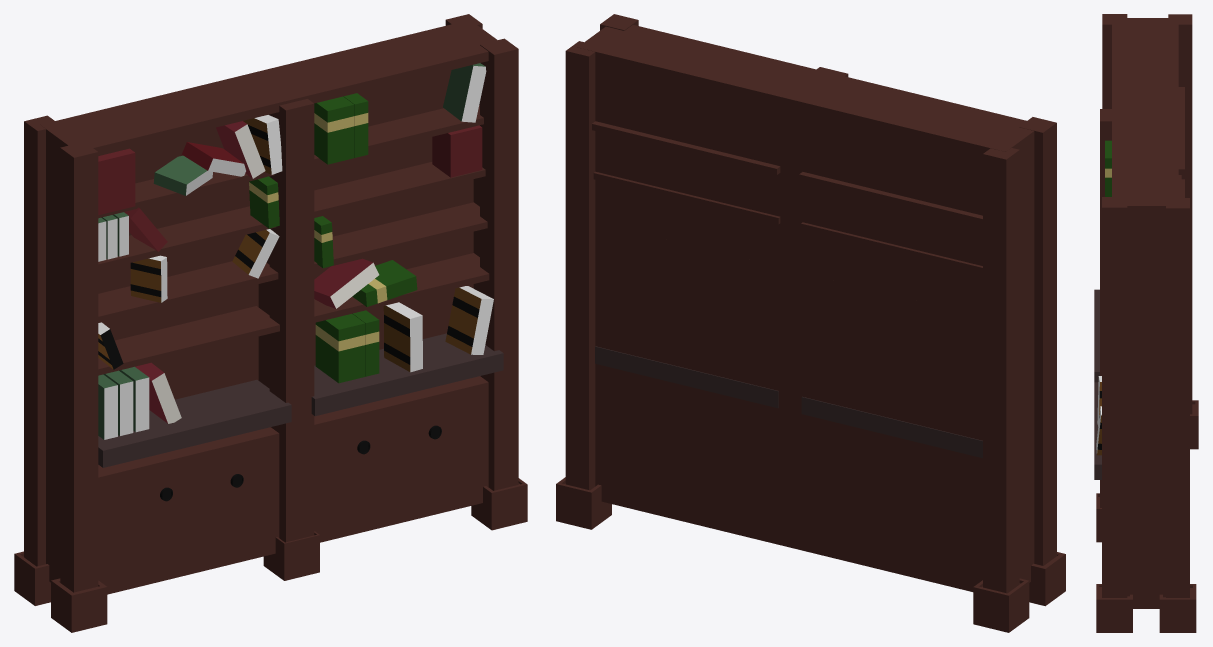
Rendered from bookshelf.fbx.
The picture shows the model from 3 angles, left to right: view 1: azimuth 30°, elevation 25°; view 2: azimuth 150°, elevation 25°; view 3: azimuth 270°, elevation 25°; orthographic projection. The views are drawn at different scales.
Visible parts, largest first — view 1: Cube, Cube.001, Cube.003, Cube.006, Cube.002, Cube.007, Cube.005, Cube.021, Cube.020, Cube.012, Cube.037, Cube.019 (+23 smaller); view 2: Cube, Cube.005, Cube.004, Cube.003, Cube.001, Cube.007; view 3: Cube, Cube.002, Cube.004, Cube.005, Cube.006, Cube.003, Cube.007, Cube.001, Cube.023, Cube.021, Cube.020.
Part boxes in pixels (<box>): Cube: <box>40,20,497,594</box>; Cube.001: <box>98,105,489,375</box>; Cube.003: <box>51,142,107,632</box>; Cube.006: <box>263,99,319,580</box>; Cube.002: <box>471,38,527,530</box>; Cube.007: <box>98,333,503,467</box>; Cube.005: <box>14,115,54,605</box>; Cube.021: <box>445,286,493,354</box>; Cube.020: <box>383,302,422,372</box>; Cube.012: <box>315,317,352,383</box>; Cube.037: <box>314,258,379,308</box>; Cube.019: <box>443,63,486,122</box>; Cube: <box>577,25,1034,591</box>; Cube.005: <box>973,148,1029,632</box>; Cube.004: <box>556,41,611,529</box>; Cube.003: <box>1019,117,1065,606</box>; Cube.001: <box>592,121,982,322</box>; Cube.007: <box>595,346,982,458</box>; Cube: <box>1112,18,1178,608</box>; Cube.002: <box>1096,197,1132,632</box>; Cube.004: <box>1159,198,1196,632</box>; Cube.005: <box>1168,14,1198,449</box>; Cube.006: <box>1096,109,1111,542</box>; Cube.003: <box>1102,14,1127,108</box>; Cube.007: <box>1094,289,1101,479</box>; Cube.001: <box>1178,87,1184,197</box>; Cube.023: <box>1105,152,1111,196</box>; Cube.021: <box>1096,406,1101,455</box>; Cube.020: <box>1097,376,1101,426</box>.
Bounding box in the file's own units: 8.48 × 8.39 × 1.88.
